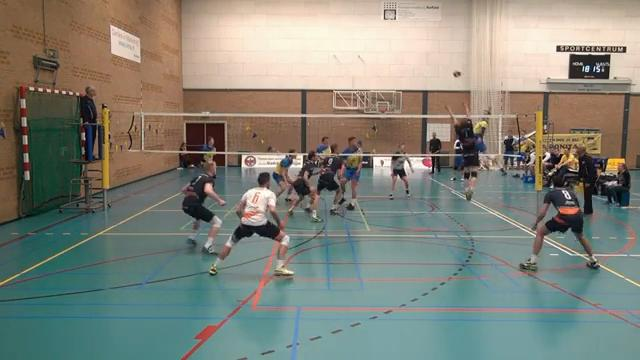attacco: (467, 95, 510, 181)
muro: (443, 100, 479, 200)
